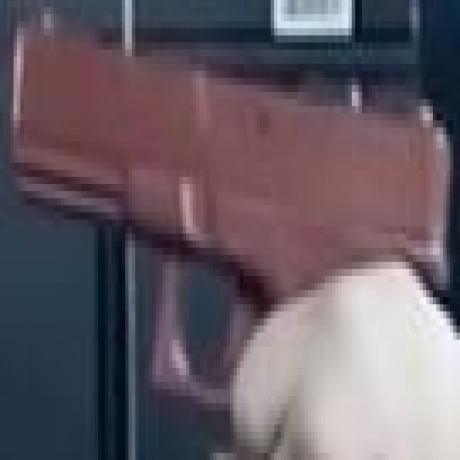1: (225, 253, 459, 460)
weapon: (10, 16, 452, 416)
